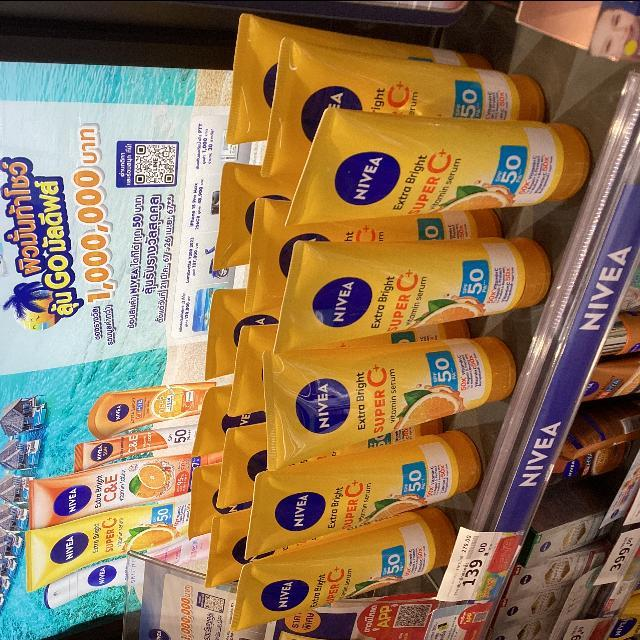Squeeze Tube: (151, 7, 593, 640), (283, 99, 602, 252), (254, 329, 519, 472), (270, 239, 557, 339), (243, 431, 478, 553), (219, 510, 457, 624)
